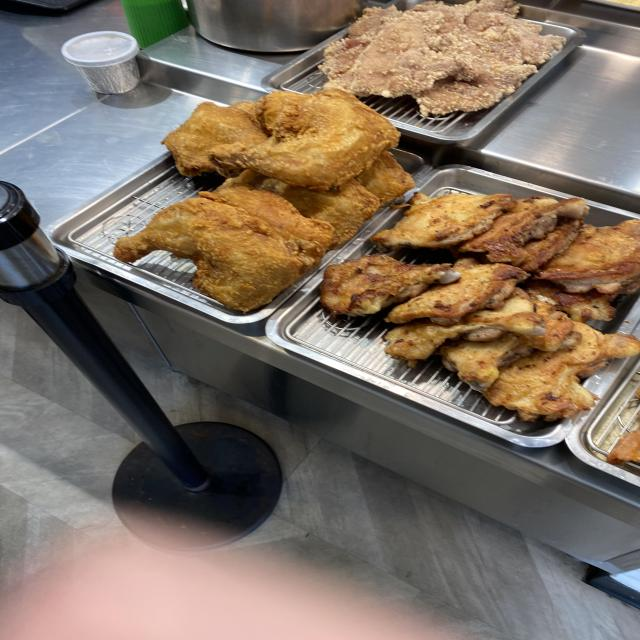Chicken Leg Steak: (436, 212, 610, 373)
